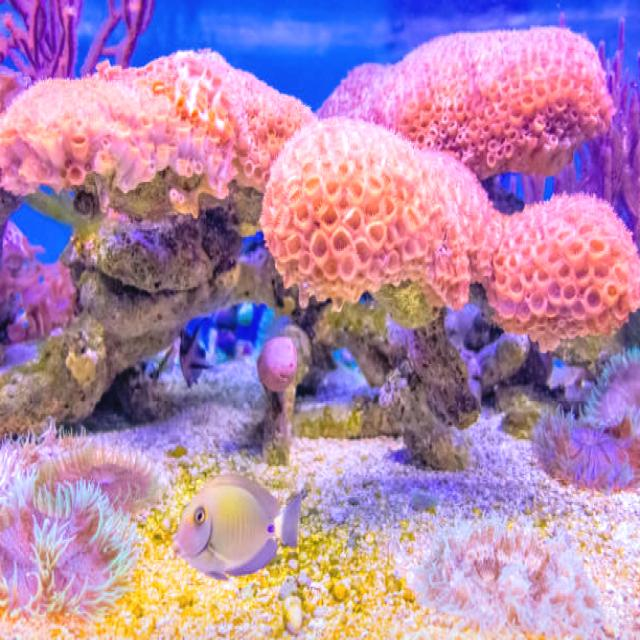Coral: (258, 114, 640, 353), (0, 47, 316, 199), (316, 24, 616, 180)
